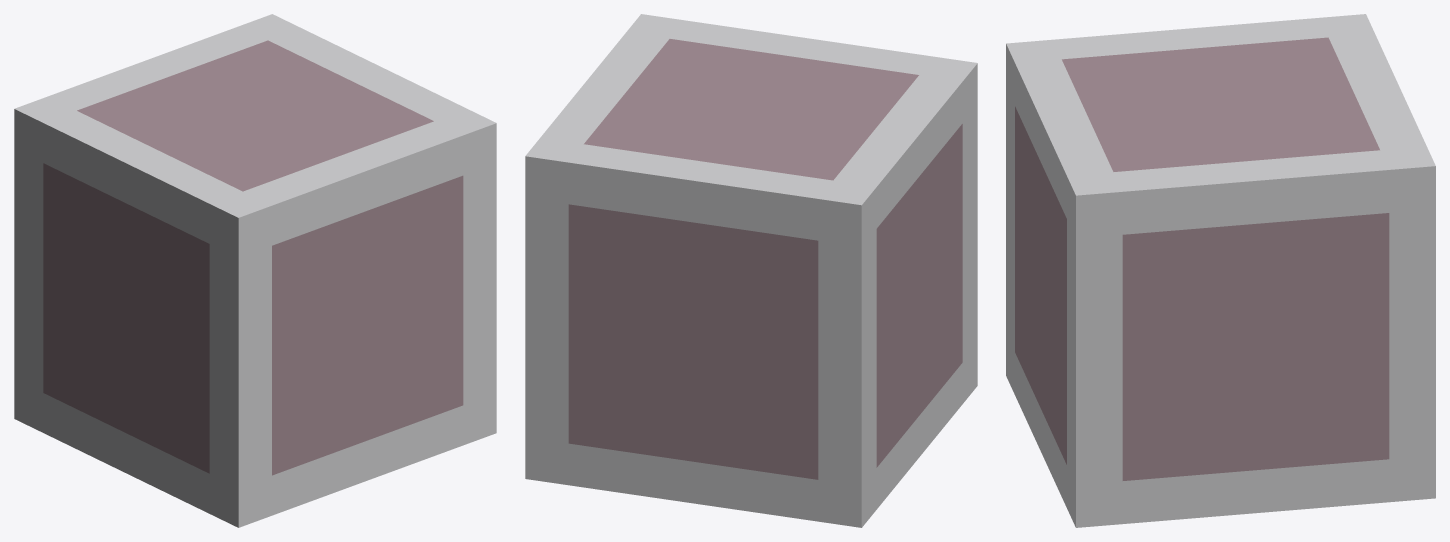
Rendered from cube-pink.fbx.
The picture shows the model from 3 angles, left to right: view 1: azimuth 30°, elevation 25°; view 2: azimuth 150°, elevation 25°; view 3: azimuth 270°, elevation 25°; orthographic projection. The views are drawn at different scales.
Parts seen in each view (by area): view 1: toy_cube_01.005; view 2: toy_cube_01.005; view 3: toy_cube_01.005.
Part boxes in pixels (x1=…): toy_cube_01.005: x1=14, y1=14, x2=496, y2=527; toy_cube_01.005: x1=525, y1=14, x2=977, y2=527; toy_cube_01.005: x1=1006, y1=14, x2=1435, y2=527.
Size of the model in its own units: 36.8 by 31.39 by 36.8.
